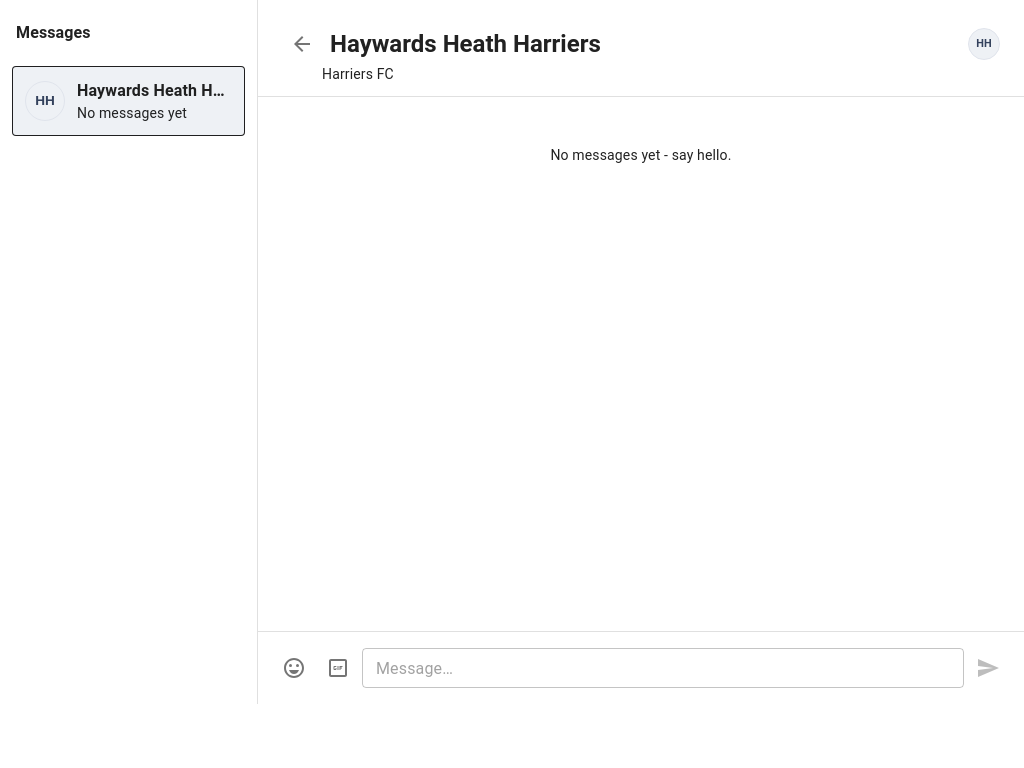
Test: ConversationThreadPage › shows the first message in the inbox preview as soon as it is sent
Expected: the text "No messages yet" is shown, x1=77 y1=105 x2=187 y2=121
Type "Hello from Riverside" into the text box with placeholder "Message…" at [663, 668], box x1=376 y1=656 x2=950 y2=680
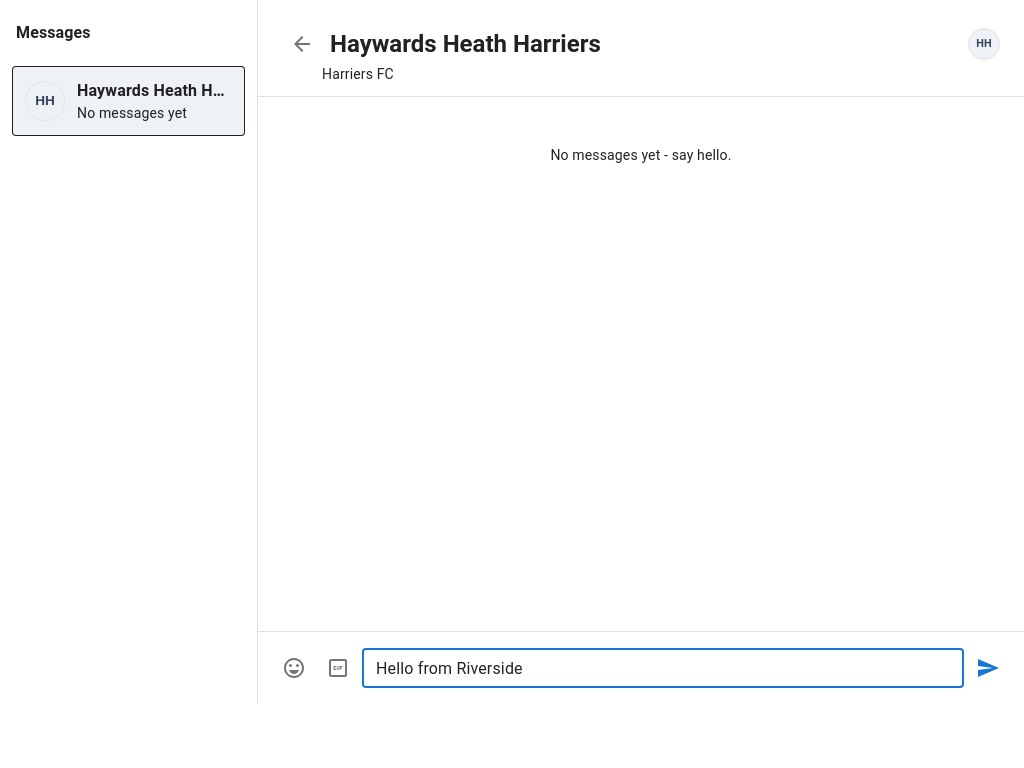
Click the button named "Send" at [988, 668], box x1=968 y1=648 x2=1008 y2=688
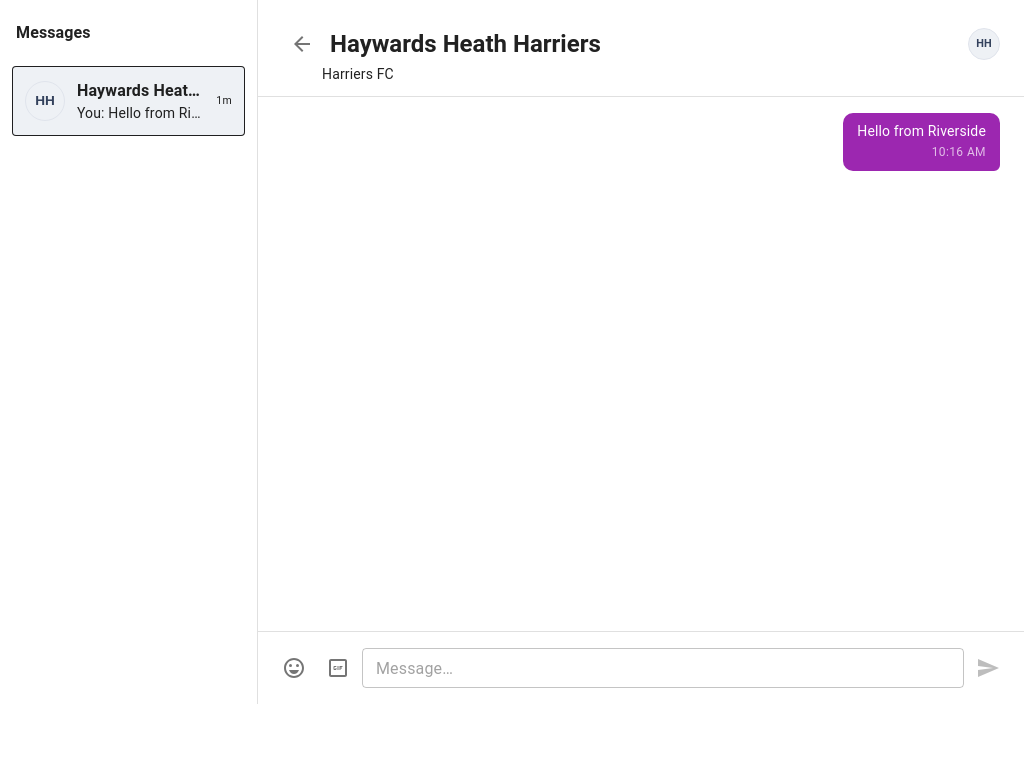
Expected: the text "Haywards Heath Harriers" is shown, x1=77 y1=79 x2=204 y2=103
Expected: the button "No messages yet" is gone
